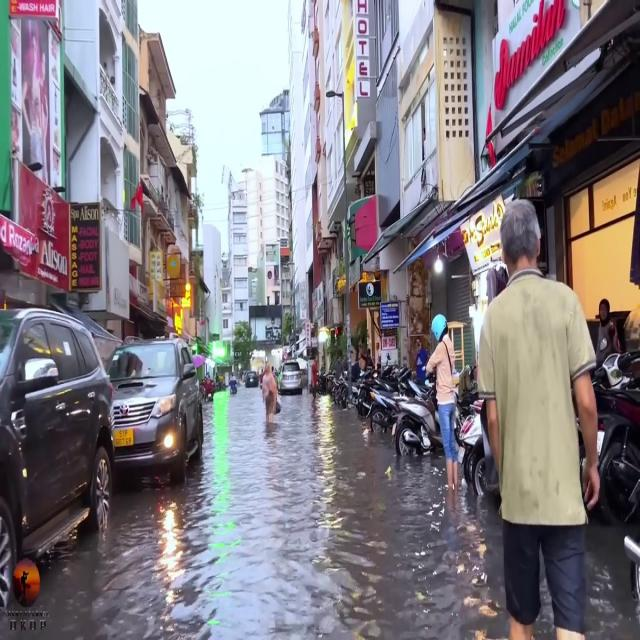bien_trang: (110, 427, 134, 449)
